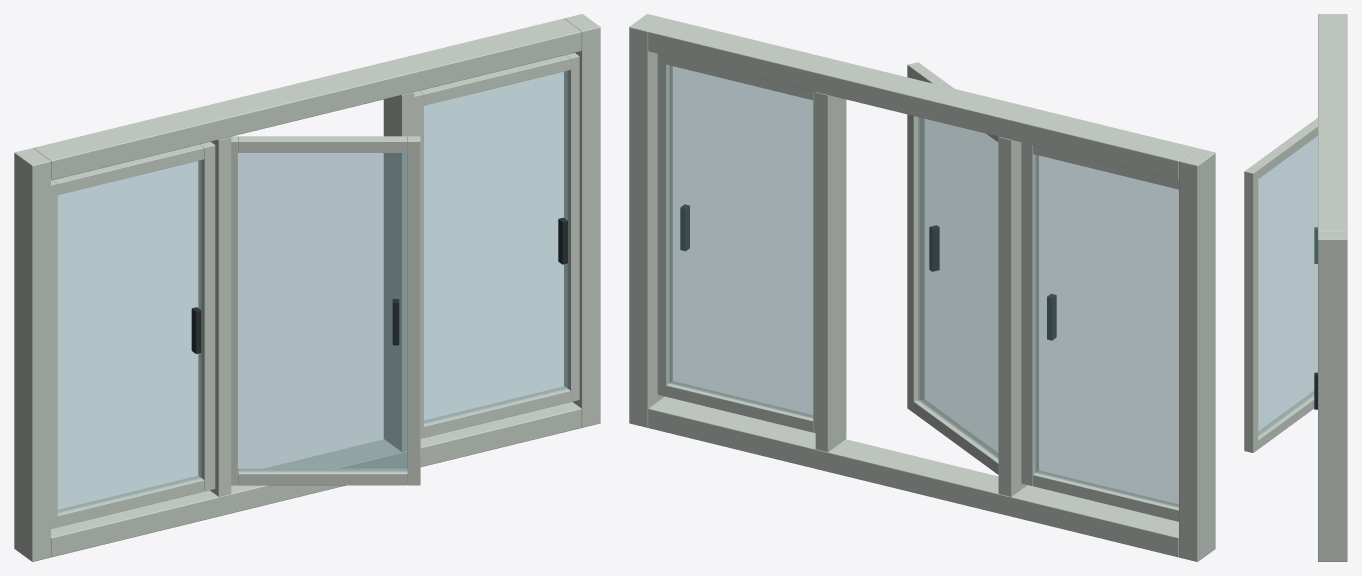
The model's file is source-edit.glb.
3 renders of one model, left to right at view 1: azimuth 30°, elevation 25°; view 2: azimuth 150°, elevation 25°; view 3: azimuth 270°, elevation 25°, orthographic. The views are drawn at different scales.
Parts seen in each view (by area): view 1: GLASS_Leaf_1, GLASS_Leaf_2, GLASS_Leaf_0, FRAME_Rail_1.17, FRAME_Jamb_-0.87, FRAME_Rail_0.03, FRAME_Jamb_0.87, FRAME_Mullion_0.29, FRAME_Mullion_-0.29, SASH_0_Side_-0.32999999999999996, SASH_2_Side_0.83, SASH_1_Side_0.25 (+9 smaller); view 2: GLASS_Leaf_2, GLASS_Leaf_0, GLASS_Leaf_1, FRAME_Rail_1.17, FRAME_Rail_0.03, FRAME_Jamb_-0.87, FRAME_Jamb_0.87, FRAME_Mullion_0.29, FRAME_Mullion_-0.29, SASH_0_Side_-0.32999999999999996, SASH_1_Side_0.25, SASH_2_Side_0.83 (+6 smaller); view 3: GLASS_Leaf_1, FRAME_Jamb_0.87, FRAME_Rail_1.17, SASH_1_Side_0.25, SASH_1_Rail_1.1025, SASH_1_Rail_0.0975, FRAME_Jamb_-0.87.
Boxes of the visible parts, x1,y1,x2,y2 form: GLASS_Leaf_1: [238, 153, 407, 471]; GLASS_Leaf_2: [424, 70, 568, 423]; GLASS_Leaf_0: [57, 160, 201, 512]; FRAME_Rail_1.17: [33, 18, 581, 180]; FRAME_Jamb_-0.87: [14, 148, 50, 561]; FRAME_Rail_0.03: [51, 402, 581, 557]; FRAME_Jamb_0.87: [564, 14, 600, 427]; FRAME_Mullion_0.29: [383, 92, 414, 451]; FRAME_Mullion_-0.29: [210, 137, 231, 496]; SASH_0_Side_-0.32999999999999996: [198, 141, 215, 491]; SASH_2_Side_0.83: [564, 53, 579, 401]; SASH_1_Side_0.25: [407, 136, 420, 485]; GLASS_Leaf_2: [669, 65, 813, 418]; GLASS_Leaf_0: [1035, 155, 1178, 507]; GLASS_Leaf_1: [918, 117, 998, 458]; FRAME_Rail_1.17: [648, 18, 1196, 180]; FRAME_Rail_0.03: [648, 396, 1178, 557]; FRAME_Jamb_-0.87: [1179, 148, 1215, 561]; FRAME_Jamb_0.87: [629, 14, 665, 427]; FRAME_Mullion_0.29: [815, 92, 846, 451]; FRAME_Mullion_-0.29: [998, 137, 1026, 496]; SASH_0_Side_-0.32999999999999996: [1021, 142, 1038, 485]; SASH_1_Side_0.25: [907, 62, 924, 412]; SASH_2_Side_0.83: [657, 53, 672, 396]; GLASS_Leaf_1: [1258, 136, 1317, 435]; FRAME_Jamb_0.87: [1318, 232, 1347, 561]; FRAME_Rail_1.17: [1318, 21, 1347, 232]; SASH_1_Side_0.25: [1244, 168, 1258, 452]; SASH_1_Rail_1.1025: [1250, 118, 1317, 178]; SASH_1_Rail_0.0975: [1258, 391, 1314, 448]; FRAME_Jamb_-0.87: [1318, 14, 1347, 21].
Size of the model in its own units: 1.8 by 1.2 by 0.3478.
